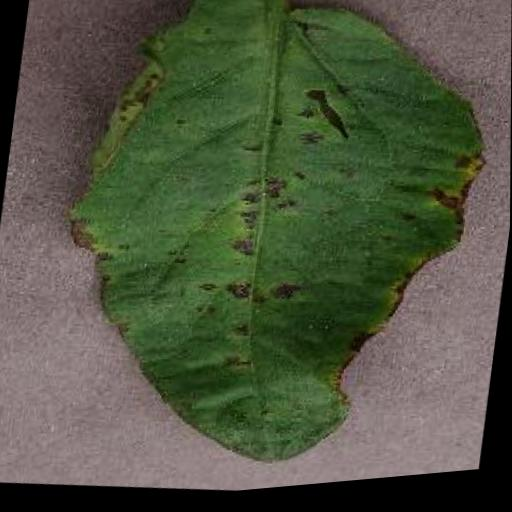Bacterial Spot: (29, 0, 512, 510)
